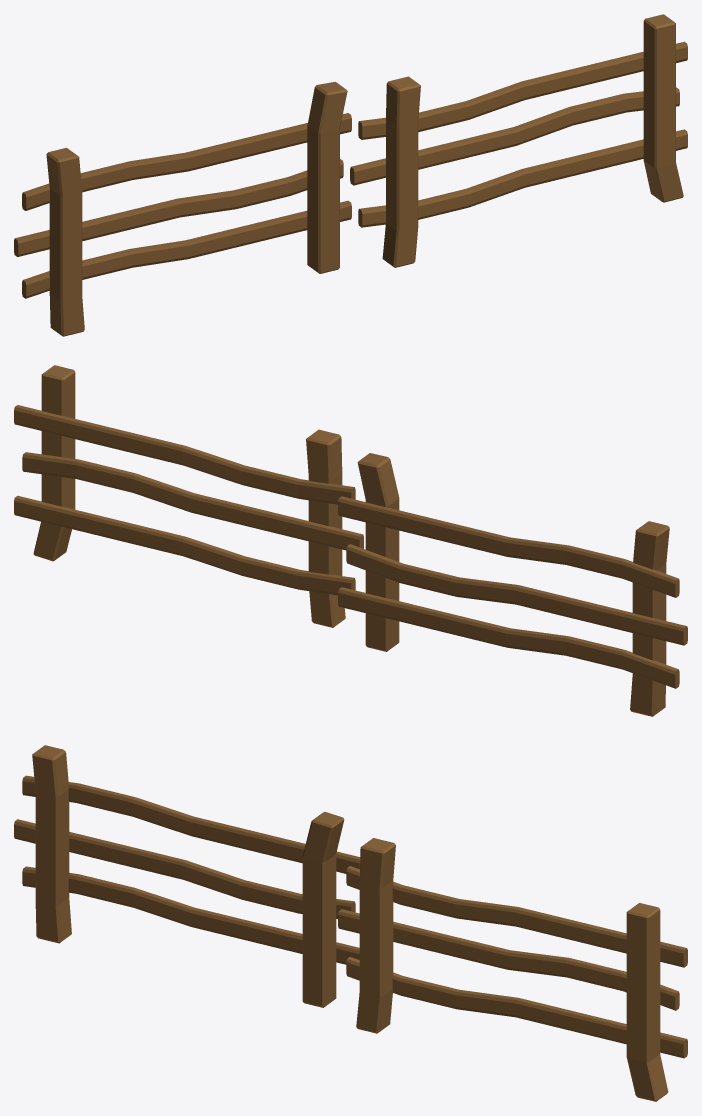
File: cerca_mandar_para_o_jonsons.fbx
3 views of the same model, one above another, from view 1: azimuth 30°, elevation 25°; view 2: azimuth 150°, elevation 25°; view 3: azimuth 330°, elevation 25° (orthographic). The views are drawn at different scales.
Visible parts, largest first — view 1: cerca 2.001; view 2: cerca 2.001; view 3: cerca 2.001.
Part boxes in pixels (<box>): cerca 2.001: <box>14,14,687,336</box>; cerca 2.001: <box>14,365,687,716</box>; cerca 2.001: <box>14,745,687,1101</box>.
Size of the model in its own units: 31.42 by 8.24 by 2.32.
